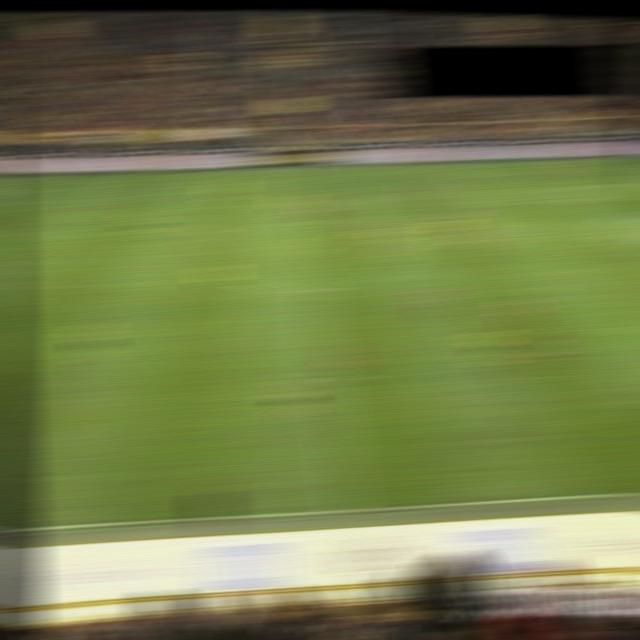bigarea_top_inner: (552, 180, 587, 193), (0, 198, 31, 208)
corner: (618, 152, 640, 163)
halfcircle_bottom: (298, 285, 330, 295)
halfcircle_top: (288, 216, 319, 227)
midline_bottom_intersection: (330, 501, 366, 517)
midline_top_intersection: (279, 165, 311, 176)
top_arc_area_intersection: (603, 209, 638, 223)
